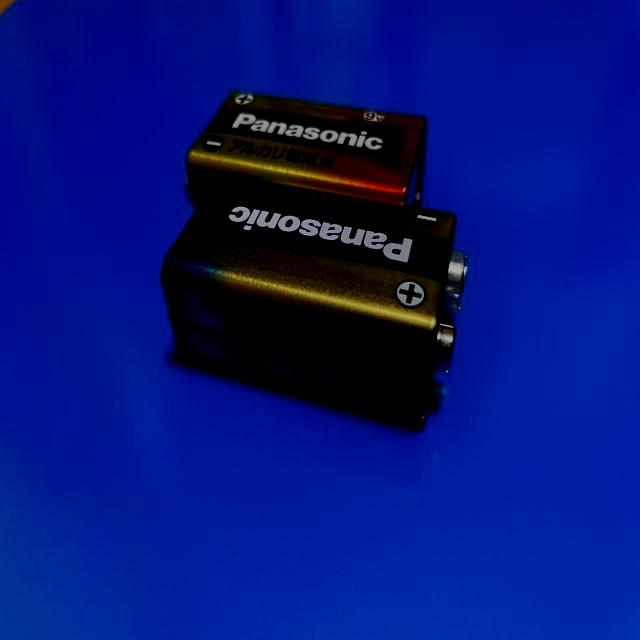9V: (161, 170, 467, 424), (182, 89, 429, 207)
